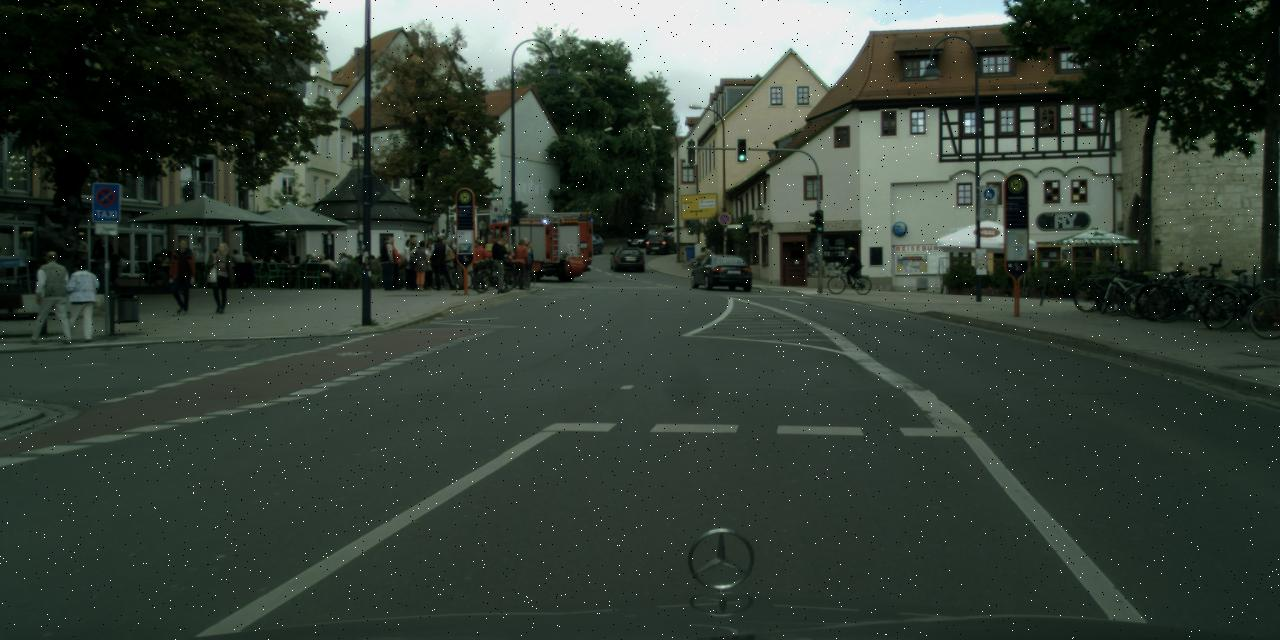ped: (380, 234, 463, 290), (32, 251, 70, 343), (63, 258, 96, 341), (167, 238, 198, 314), (206, 242, 235, 313), (489, 238, 512, 292), (511, 238, 531, 290), (467, 239, 487, 289), (518, 241, 536, 286), (842, 247, 858, 287), (455, 238, 456, 244)
